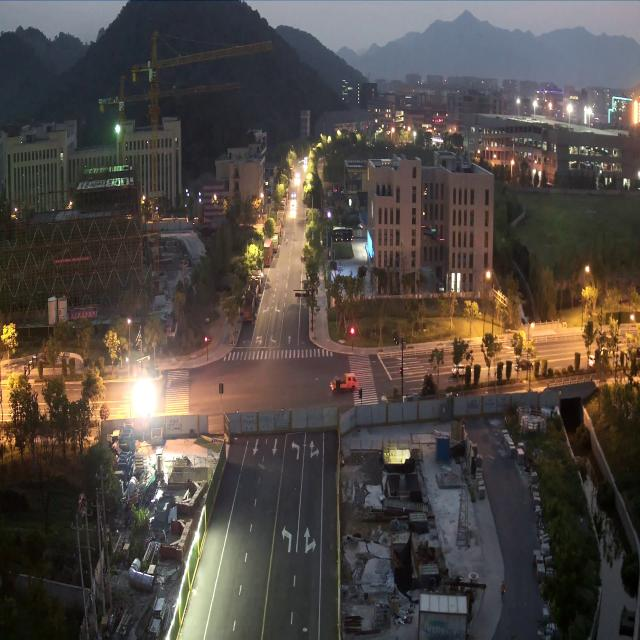UAV: (421, 224, 445, 242)
